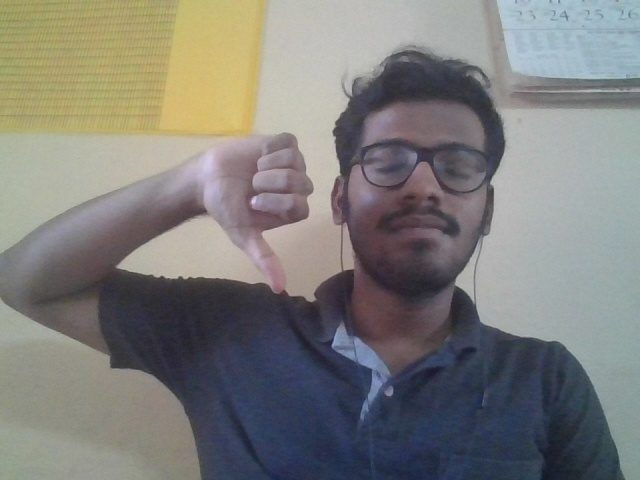ThumbsDown: (199, 132, 319, 295)
